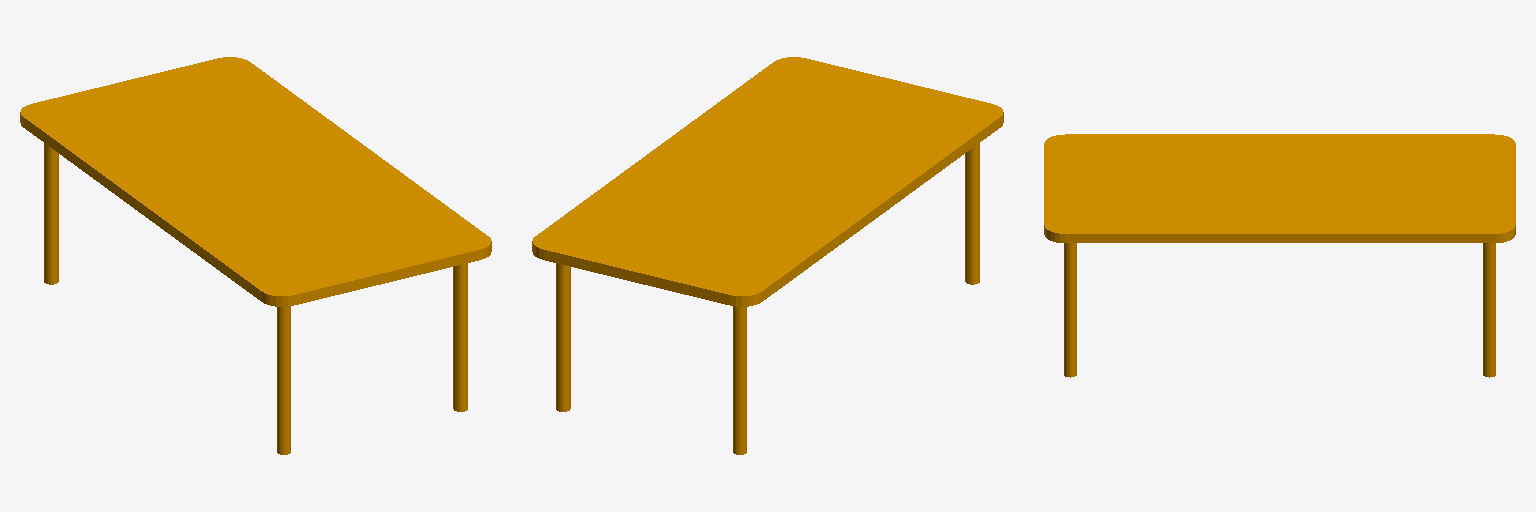
URDF robot description (table_long):
<?xml version="1.0"?>
<robot name="table_long">

    <link name="base_link">

        <visual>
            <origin rpy="0 0 0" xyz="0 0 0"/>
            <geometry>
                <mesh filename="table_long.obj" scale="1 1 1"/>
                <box size="0.9 1.8 0.9"/>
            </geometry>
        </visual>

        <collision>
            <origin rpy="0 0 0" xyz="0 0 0.19"/>
            <geometry>
                <box size="0.9 1.8 0.9"/>
            </geometry>
        </collision>

        <inertial>
            <mass value="0.0"/>
            <origin rpy="0 0 0" xyz="0 0 0"/>
            <inertia ixx="1" ixy="0" ixz="0" iyy="1" iyz="0" izz="1"/>
        </inertial>


    </link>
</robot>

--- Facts derived from the render (not from the file) ---
Views: 3 orthographic renders of the robot side by side, from view 1: azimuth 30°, elevation 25°; view 2: azimuth 150°, elevation 25°; view 3: azimuth 270°, elevation 25°.
Model table_long with 1 links and 0 joints (none), rooted at base_link, posed all joints at 0.
Visible links, largest first — view 1: base_link; view 2: base_link; view 3: base_link.
Link boxes in pixels (box(x1,y1,x2,y2)): base_link: box(20, 57, 491, 454); base_link: box(532, 57, 1003, 454); base_link: box(1044, 134, 1515, 377).
Size in the robot's own frame: 0.9 by 1.8 by 0.64 metres.
Meshes: 1 distinct files referenced, 1 mesh visuals loaded (1 OBJ).